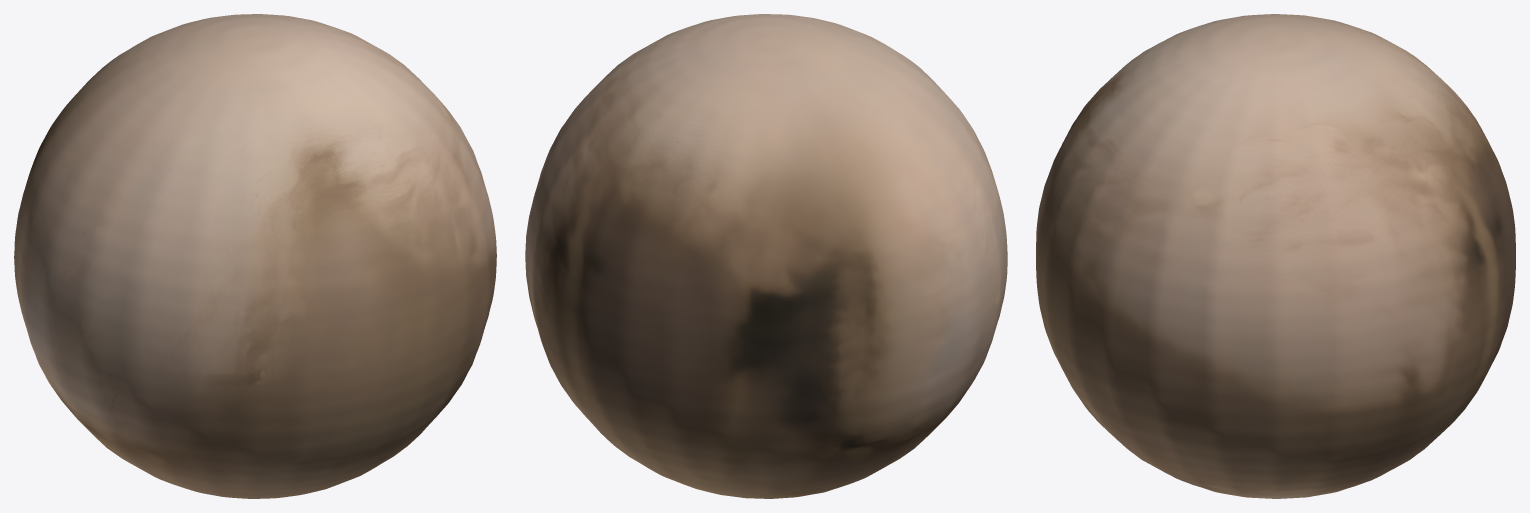
File: 019d3056-8c31-7e0e-a905-56cf63667afc.glb
The picture shows the model from 3 angles, left to right: view 1: azimuth 30°, elevation 25°; view 2: azimuth 150°, elevation 25°; view 3: azimuth 270°, elevation 25°; orthographic projection.
Visible parts, largest first — view 1: model; view 2: model; view 3: model.
Boxes of the visible parts, box(x1,y1,x2,y2) form: model: box(14, 14, 496, 498); model: box(525, 14, 1007, 498); model: box(1036, 14, 1515, 498).
Size of the model in its own units: 1.9 by 1.9 by 1.89.
Materials: 1 (1 with a texture image).
